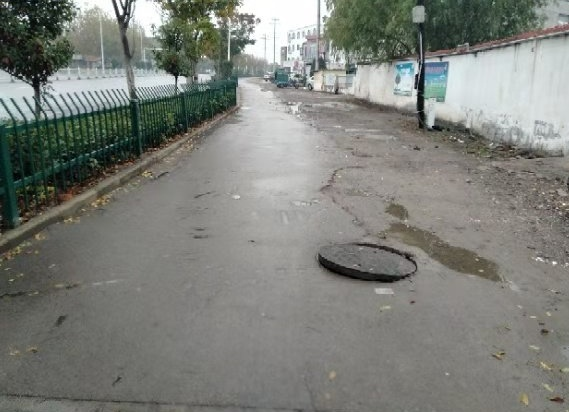uncovered: (316, 241, 417, 285)
